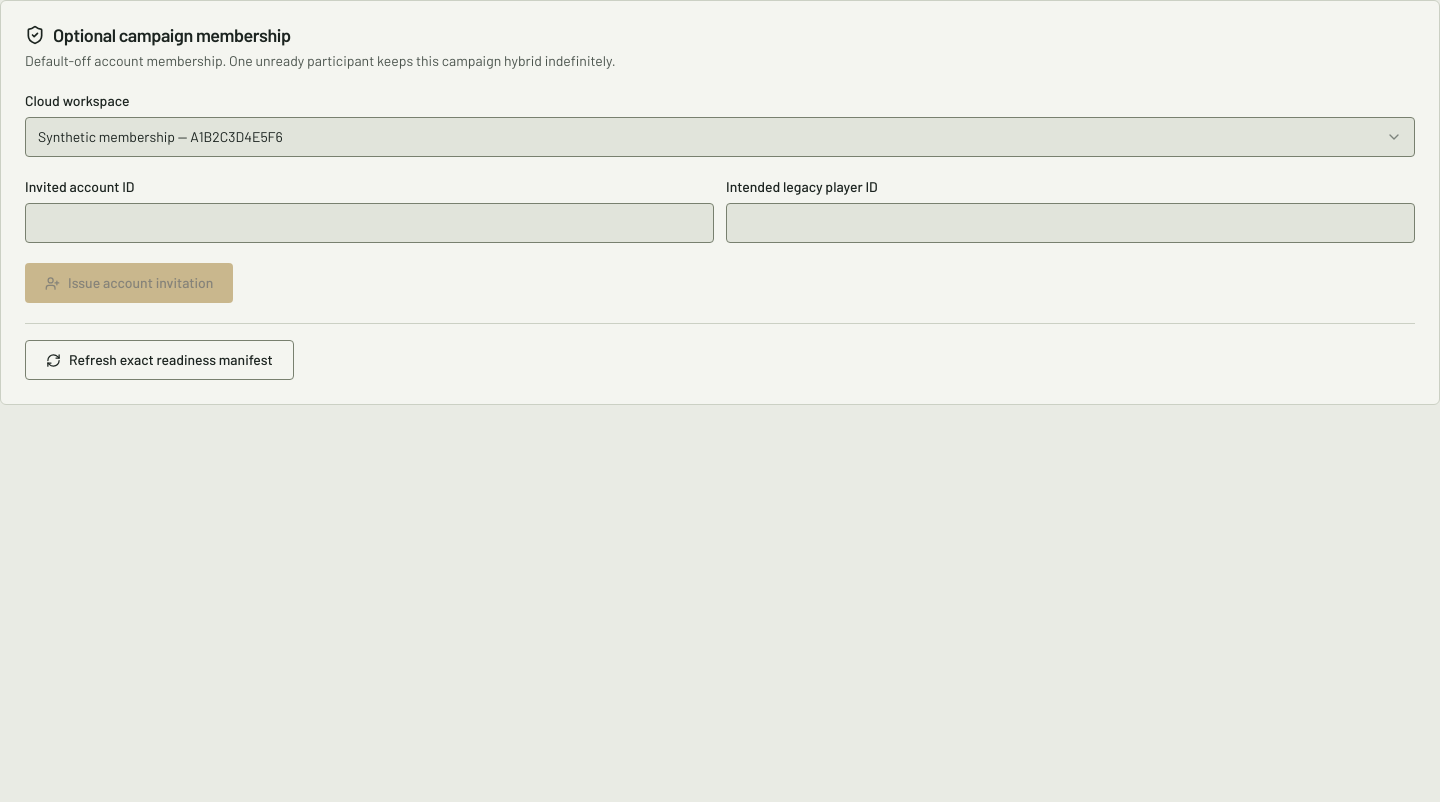
Test: DmCampaignMembershipControls › uses invitation IDs as readiness row keys when one account has multiple invitations
Click the button "Refresh exact readiness manifest" at (159, 360), box [25, 340, 294, 380]
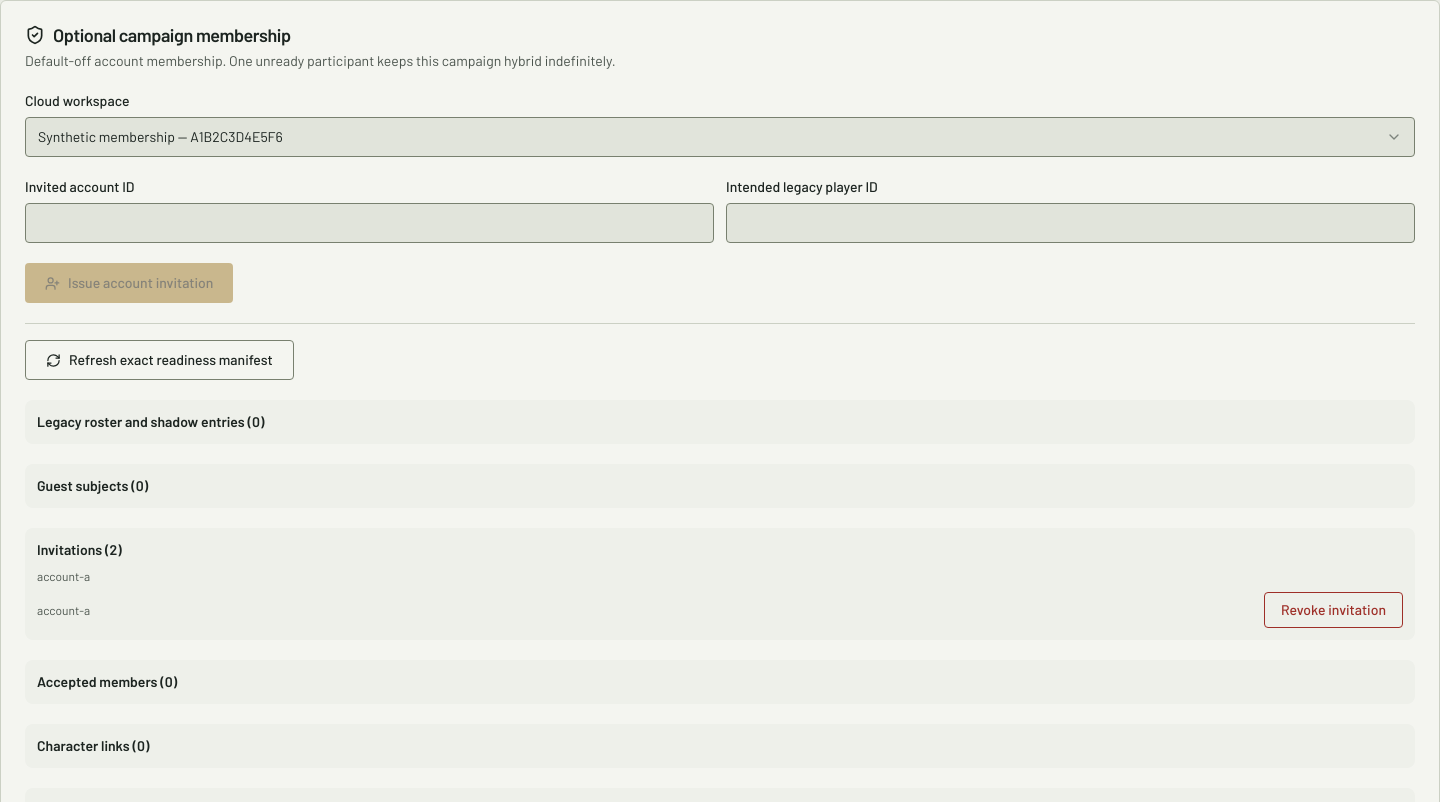
Expected: the heading "Invitations (2)" is shown, [37, 541, 122, 558]
